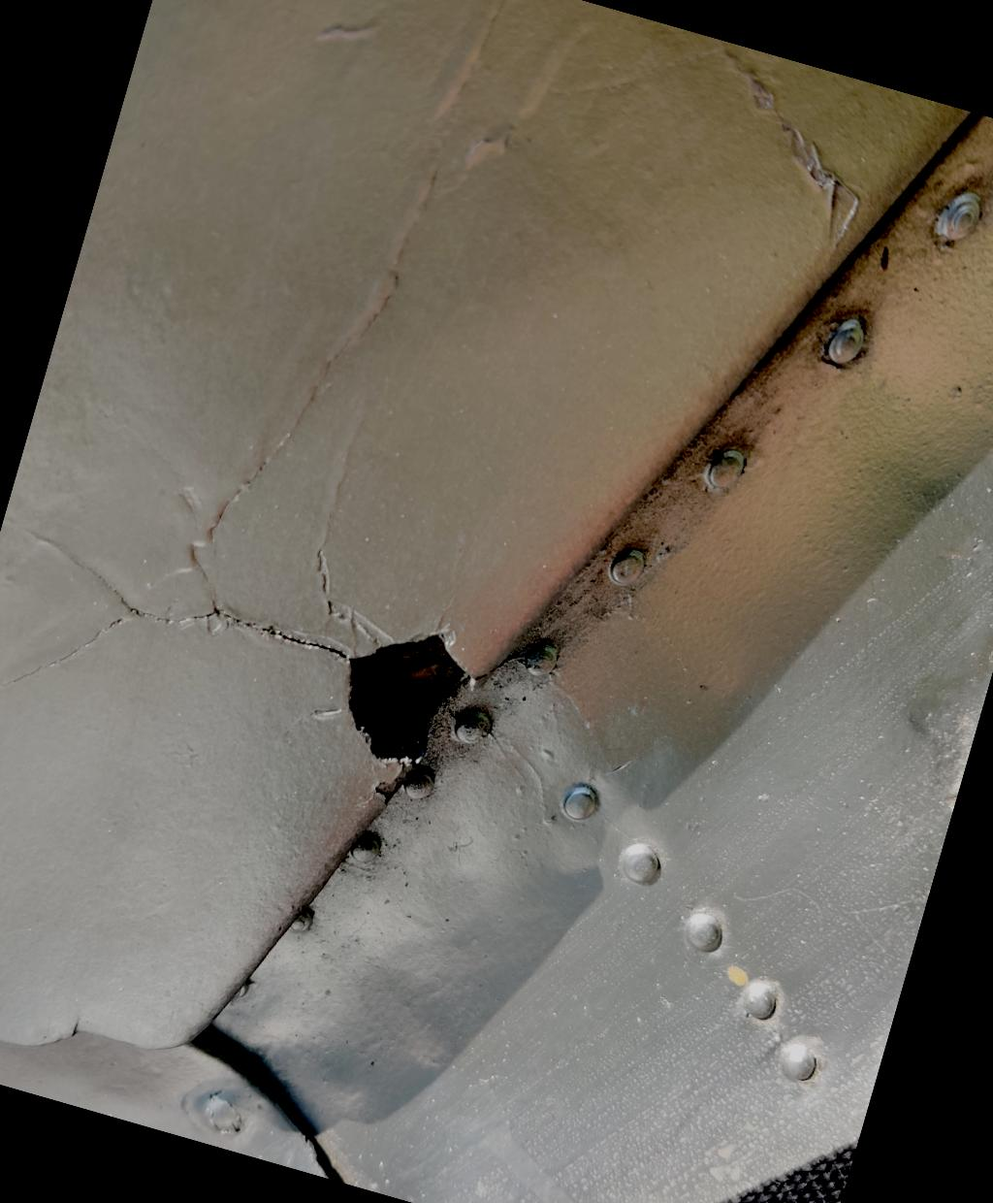crack: (141, 512, 622, 1186)
